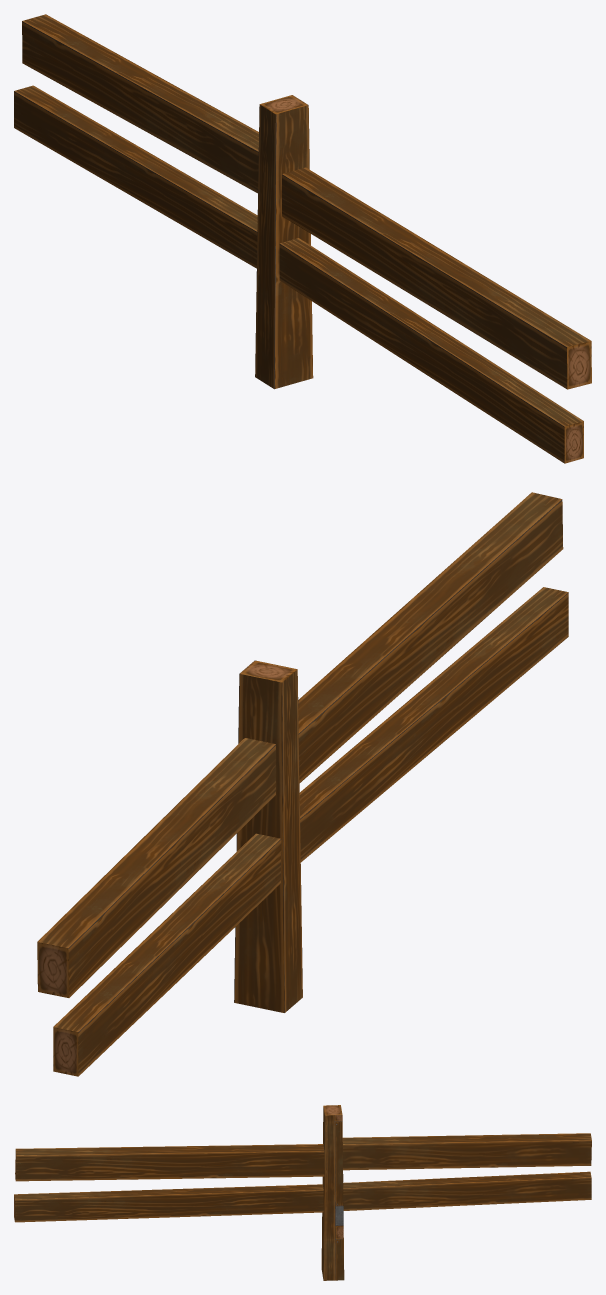
The picture shows the model from 3 angles, top to bottom: view 1: azimuth 30°, elevation 25°; view 2: azimuth 150°, elevation 25°; view 3: azimuth 270°, elevation 25°; orthographic projection. The views are drawn at different scales.
Visible parts, largest first — view 1: Cube.009; view 2: Cube.009; view 3: Cube.009.
Part boxes in pixels (<box>): Cube.009: <box>14,14,591,463</box>; Cube.009: <box>37,492,568,1076</box>; Cube.009: <box>14,1105,591,1280</box>.
Size of the model in its own units: 54.64 by 142 by 453.
Materials: 1 (1 with a texture image).
